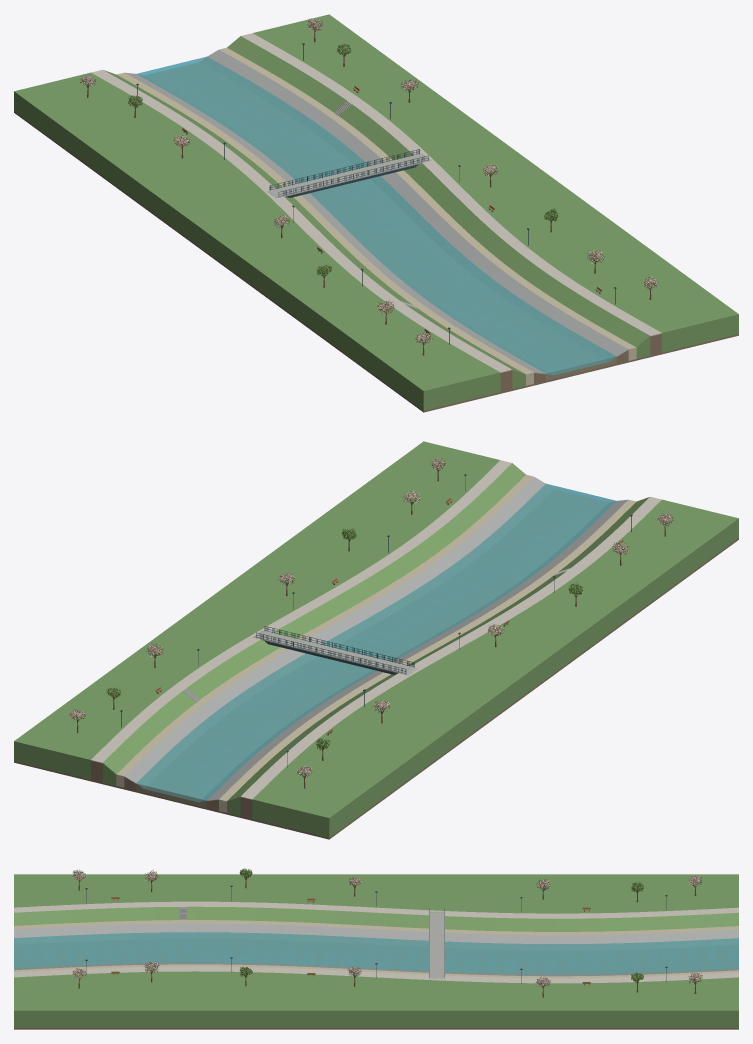
File: river_demo.glb
3 views of the same model, one above another, from view 1: azimuth 30°, elevation 25°; view 2: azimuth 150°, elevation 25°; view 3: azimuth 270°, elevation 25° (orthographic). The views are drawn at different scales.
Visible parts, largest first — view 1: Banks:left:outer_green, Banks:right:outer_green, River:water:surface_volume, River:bed:channel, Banks:right:grass_slope, Banks:right:stone_revetment, Paths:right:paving, Paths:left:paving, River:bed:right_submerged_slope, Banks:right:waterside_platform, Banks:left:waterside_platform, Banks:left:stone_revetment (+4 smaller); view 2: Banks:left:outer_green, Banks:right:outer_green, River:water:surface_volume, River:bed:channel, Banks:right:grass_slope, Banks:right:stone_revetment, Paths:right:paving, Paths:left:paving, River:bed:right_submerged_slope, Banks:right:waterside_platform, Banks:left:waterside_platform, Banks:left:stone_revetment (+4 smaller); view 3: Banks:right:outer_green, Banks:left:outer_green, River:water:surface_volume, River:bed:channel, Banks:left:grass_slope, Banks:left:stone_revetment, River:bed:left_submerged_slope, Paths:left:paving, Paths:right:paving, Banks:left:waterside_platform, Banks:right:waterside_platform, Banks:right:stone_revetment (+2 smaller).
Boxes of the visible parts, x1,y1,x2,y2 form: Banks:left:outer_green: [14, 72, 500, 410]; Banks:right:outer_green: [253, 14, 738, 352]; River:water:surface_volume: [136, 56, 616, 375]; River:bed:channel: [145, 62, 608, 378]; Banks:right:grass_slope: [227, 36, 650, 358]; Banks:right:stone_revetment: [207, 50, 628, 356]; Paths:right:paving: [241, 33, 661, 336]; Paths:left:paving: [91, 69, 512, 372]; River:bed:right_submerged_slope: [200, 57, 616, 365]; Banks:right:waterside_platform: [219, 47, 636, 360]; Banks:left:waterside_platform: [117, 72, 533, 385]; Banks:left:stone_revetment: [125, 72, 545, 374]; Banks:left:outer_green: [252, 499, 738, 837]; Banks:right:outer_green: [14, 441, 499, 779]; River:water:surface_volume: [136, 483, 616, 802]; River:bed:channel: [144, 489, 607, 805]; Banks:right:grass_slope: [102, 463, 525, 785]; Banks:right:stone_revetment: [124, 477, 545, 783]; Paths:right:paving: [91, 460, 511, 763]; Paths:left:paving: [240, 496, 661, 799]; River:bed:right_submerged_slope: [136, 484, 552, 792]; Banks:right:waterside_platform: [116, 474, 533, 787]; Banks:left:waterside_platform: [219, 499, 636, 812]; Banks:left:stone_revetment: [207, 499, 627, 801]; Banks:right:outer_green: [14, 971, 738, 1027]; Banks:left:outer_green: [14, 874, 738, 913]; River:water:surface_volume: [14, 932, 738, 974]; River:bed:channel: [14, 939, 738, 974]; Banks:left:grass_slope: [14, 906, 738, 931]; Banks:left:stone_revetment: [14, 923, 738, 943]; River:bed:left_submerged_slope: [14, 932, 738, 950]; Paths:left:paving: [14, 901, 738, 918]; Paths:right:paving: [14, 966, 738, 983]; Banks:left:waterside_platform: [14, 920, 738, 935]; Banks:right:waterside_platform: [14, 964, 738, 978]; Banks:right:stone_revetment: [14, 963, 738, 976].
Bounding box in the file's own units: 80 × 10.76 × 180.
